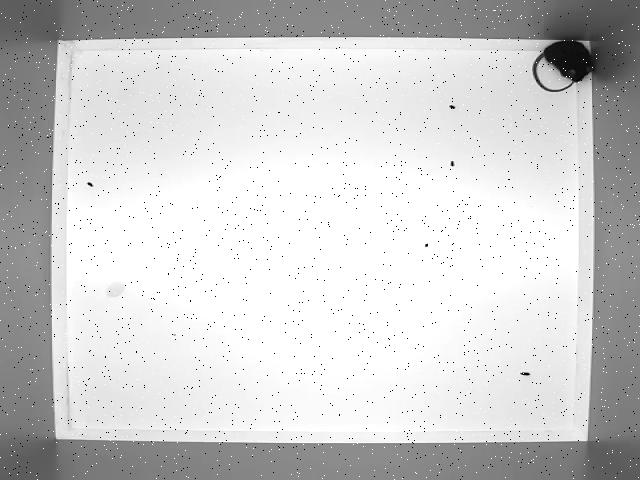Tikus: (529, 35, 600, 94)
